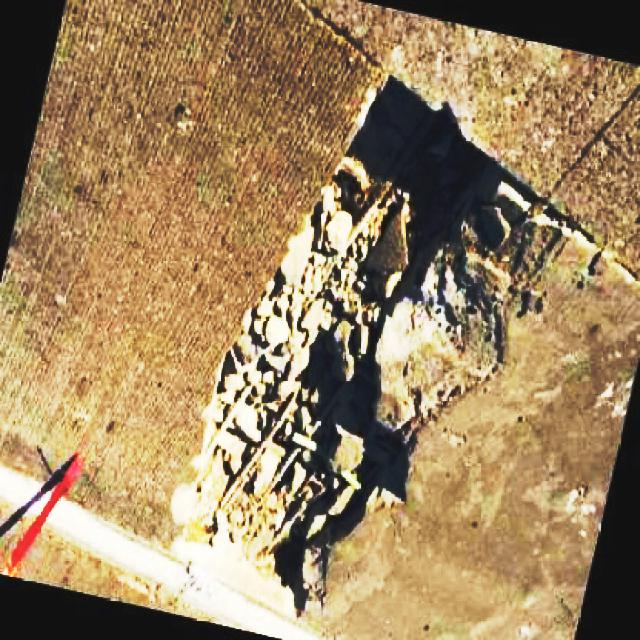pothole: (171, 71, 563, 620)
